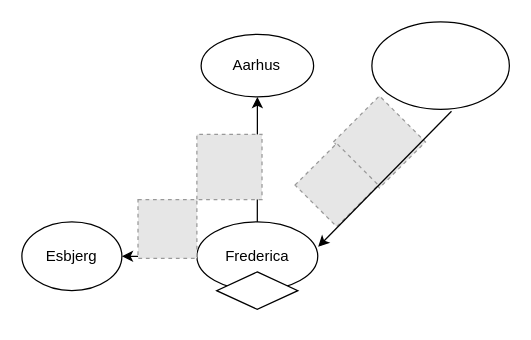
The diagram is 531 pixels wide and 340 high, and some of its shapes have lost their labels. Grey dashed boxes stand in for pictures. The centre of each missing label's shape, as x and y in pixels:
"Copenhagen" goes at pixel 440 65.
"UC" goes at pixel 256 290.
